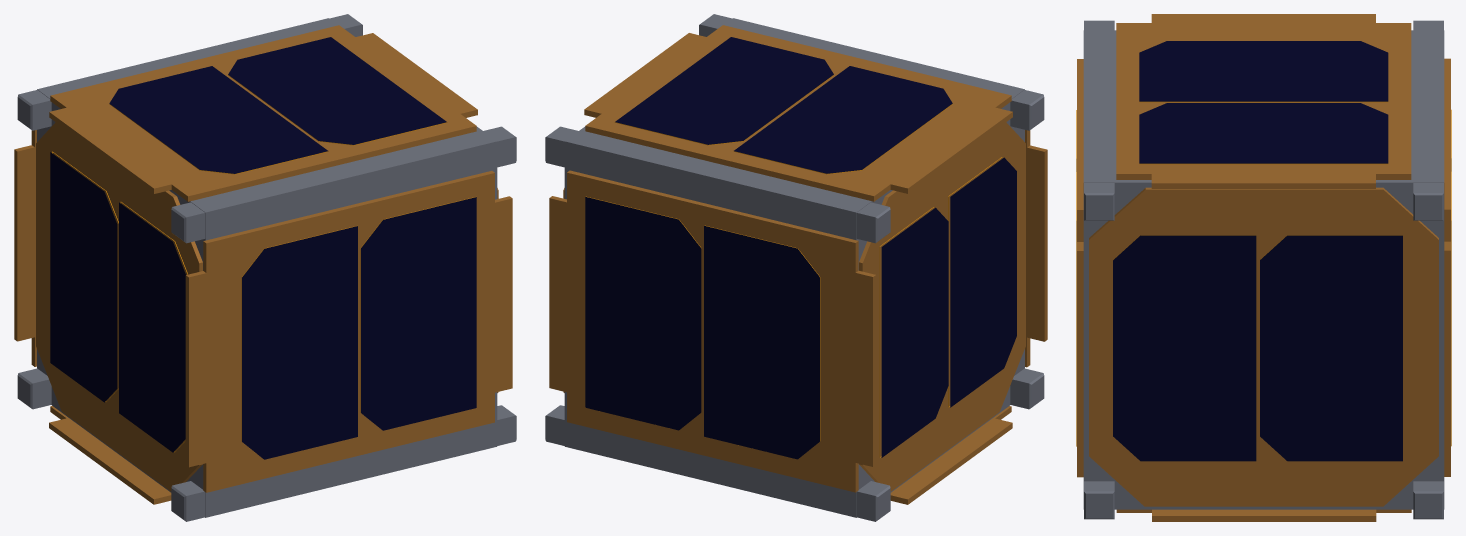
File: cubesat_1u.dae
The picture shows the model from 3 angles, left to right: view 1: azimuth 30°, elevation 25°; view 2: azimuth 150°, elevation 25°; view 3: azimuth 270°, elevation 25°; orthographic projection. The views are drawn at different scales.
Parts seen in each view (by area): view 1: Minus-Y_Cells, Minus-Y, Cubesat_1U, Minus-X_Cells, Plus-Z_Cells, Plus-Z, Minus-X, Plus-Y, Minus-Z; view 2: Plus-Y_Cells, Plus-Y, Cubesat_1U, Minus-X_Cells, Plus-Z_Cells, Plus-Z, Minus-X, Minus-Y, Minus-Z; view 3: Plus-X_Cells, Plus-X, Plus-Z_Cells, Cubesat_1U, Plus-Z, Plus-Y, Minus-Y, Minus-Z.
Part boxes in pixels (<box>): Minus-Y_Cells: <box>242,197,476,459</box>; Minus-Y: <box>185,171,512,492</box>; Cubesat_1U: <box>17,14,516,521</box>; Minus-X_Cells: <box>50,152,185,452</box>; Plus-Z_Cells: <box>109,37,446,173</box>; Plus-Z: <box>49,25,477,201</box>; Minus-X: <box>36,122,202,491</box>; Plus-Y: <box>14,130,36,366</box>; Minus-Z: <box>49,406,171,504</box>; Plus-Y_Cells: <box>585,197,819,459</box>; Plus-Y: <box>549,170,876,492</box>; Cubesat_1U: <box>545,14,1044,521</box>; Minus-X_Cells: <box>881,157,1016,457</box>; Plus-Z_Cells: <box>615,37,952,173</box>; Plus-Z: <box>584,25,1012,201</box>; Minus-X: <box>859,122,1025,491</box>; Minus-Y: <box>1025,130,1047,367</box>; Minus-Z: <box>890,406,1012,504</box>; Plus-X_Cells: <box>1113,235,1402,461</box>; Plus-X: <box>1089,187,1438,506</box>; Plus-Z_Cells: <box>1139,41,1388,163</box>; Cubesat_1U: <box>1083,20,1444,519</box>; Plus-Z: <box>1116,14,1411,188</box>; Plus-Y: <box>1444,58,1451,476</box>; Minus-Y: <box>1076,59,1083,477</box>; Minus-Z: <box>1116,509,1411,521</box>.
Bounding box in the file's own units: 0.114 × 0.104 × 0.104.
